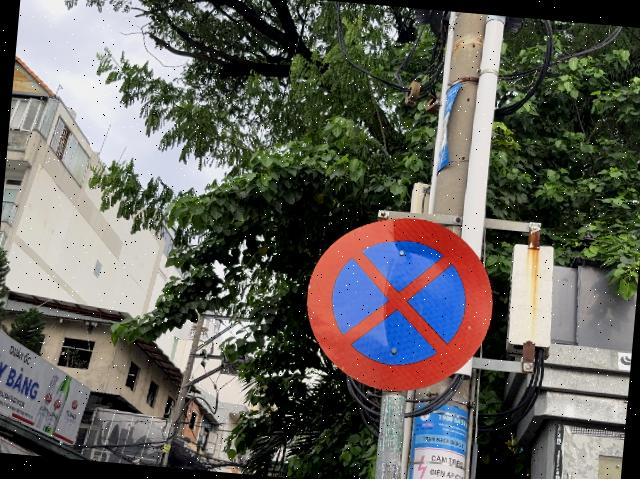cam-dung-va-do-xe: (300, 208, 500, 400)
